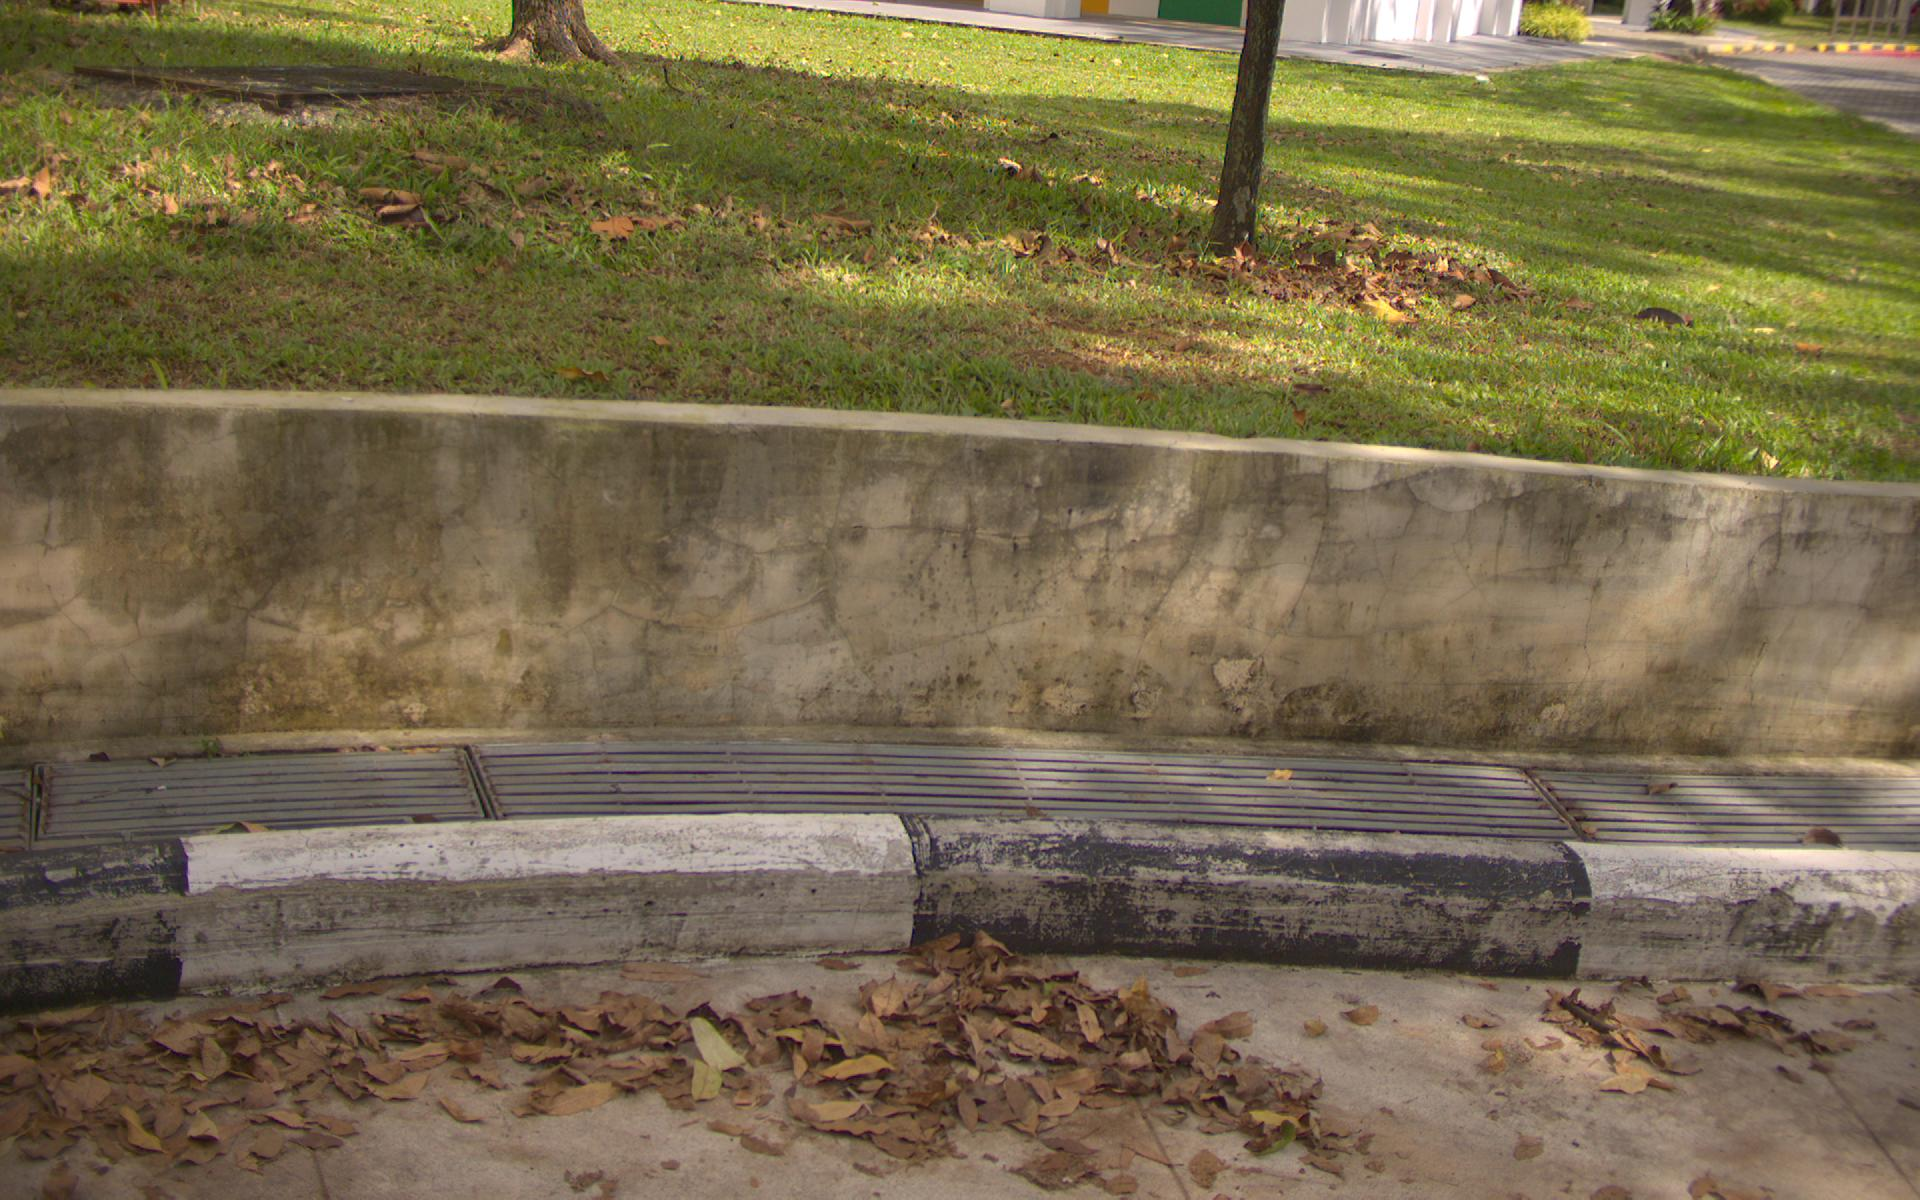curb_dic_low: (305, 723, 1920, 821)
road_curb_medium: (123, 988, 1920, 1199)
road_turf_low: (23, 75, 1762, 377)
